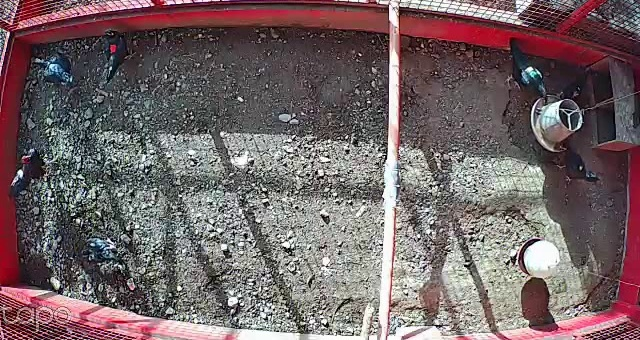Chicken: (495, 32, 550, 103), (553, 142, 603, 186), (28, 49, 79, 92), (102, 27, 140, 84), (551, 66, 601, 101)
Rooster: (8, 144, 63, 201)
Saddle_Color_Red: (111, 45, 117, 53)
Saddle_Color_YellowGreen: (523, 65, 537, 79)
